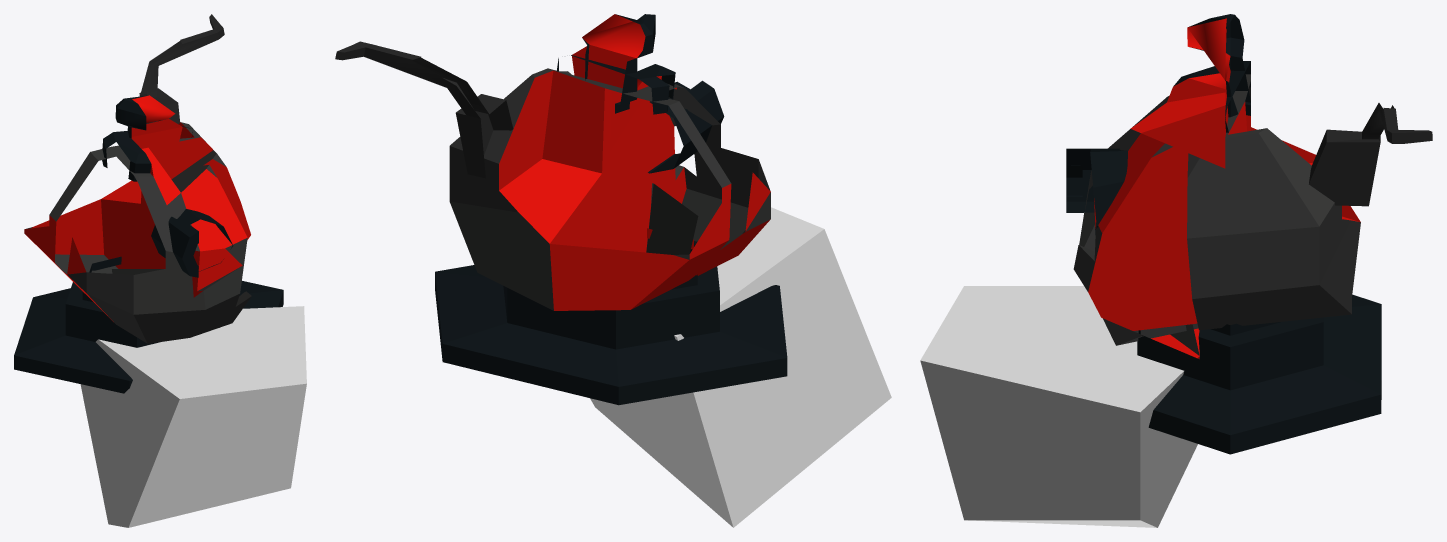
File: mortarEnemy_Broken.fbx
The picture shows the model from 3 angles, left to right: view 1: azimuth 30°, elevation 25°; view 2: azimuth 150°, elevation 25°; view 3: azimuth 270°, elevation 25°; orthographic projection. The views are drawn at different scales.
Parts seen in each view (by area): view 1: Cube.001, Cube; view 2: Cube.001, Cube; view 3: Cube.001, Cube.
Part boxes in pixels (left/top/right/bottom): Cube.001: left=14, top=14, right=283, bottom=393; Cube: left=80, top=306, right=306, bottom=527; Cube.001: left=335, top=14, right=787, bottom=405; Cube: left=590, top=207, right=891, bottom=527; Cube.001: left=1066, top=14, right=1432, bottom=454; Cube: left=920, top=286, right=1197, bottom=527.
Size of the model in its own units: 490 by 679 by 581.
